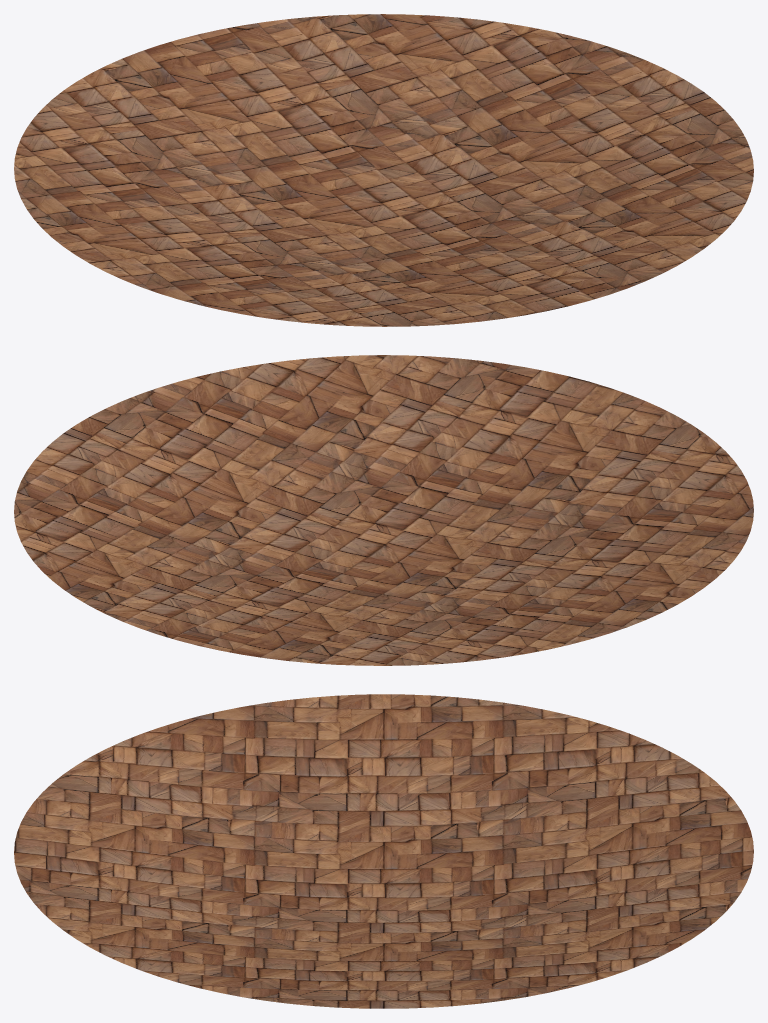
File: floor.glb
The picture shows the model from 3 angles, top to bottom: view 1: azimuth 30°, elevation 25°; view 2: azimuth 150°, elevation 25°; view 3: azimuth 270°, elevation 25°; orthographic projection.
Parts seen in each view (by area): view 1: Object_2; view 2: Object_2; view 3: Object_2.
Boxes of the visible parts, left/top/right/bottom form: Object_2: left=14, top=14, right=753, bottom=326; Object_2: left=14, top=355, right=753, bottom=665; Object_2: left=14, top=694, right=753, bottom=1008.
Bounding box in the file's own units: 1316 × 67 × 1316.
1 material, 1 textured.
